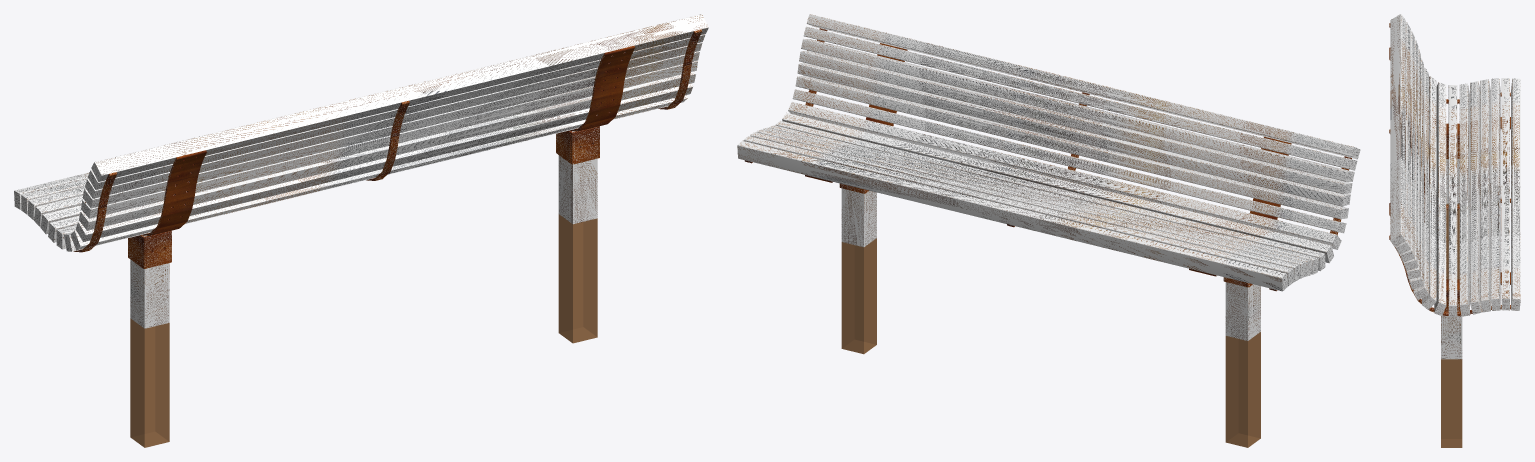
3 renders of one model, left to right at view 1: azimuth 30°, elevation 25°; view 2: azimuth 150°, elevation 25°; view 3: azimuth 270°, elevation 25°, orthographic. The views are drawn at different scales.
Visible parts, largest first — view 1: mesh6_mesh6-geometry, mesh5_mesh5-geometry, mesh9_mesh9-geometry, mesh4_mesh4-geometry, mesh8_mesh8-geometry, mesh10_mesh10-geometry, mesh7_mesh7-geometry, mesh2_mesh2-geometry; view 2: mesh6_mesh6-geometry, mesh5_mesh5-geometry, mesh9_mesh9-geometry; view 3: mesh6_mesh6-geometry, mesh5_mesh5-geometry, mesh9_mesh9-geometry, mesh10_mesh10-geometry.
Part boxes in pixels (x1,y1,x2,y2): mesh6_mesh6-geometry: [14, 14, 708, 251]; mesh5_mesh5-geometry: [558, 131, 597, 343]; mesh9_mesh9-geometry: [130, 235, 169, 447]; mesh4_mesh4-geometry: [568, 46, 634, 131]; mesh8_mesh8-geometry: [140, 150, 206, 235]; mesh10_mesh10-geometry: [73, 29, 702, 252]; mesh7_mesh7-geometry: [128, 230, 171, 268]; mesh2_mesh2-geometry: [556, 126, 599, 164]; mesh6_mesh6-geometry: [737, 14, 1360, 291]; mesh5_mesh5-geometry: [841, 188, 876, 354]; mesh9_mesh9-geometry: [1225, 282, 1260, 447]; mesh6_mesh6-geometry: [1390, 14, 1520, 316]; mesh5_mesh5-geometry: [1441, 315, 1462, 447]; mesh9_mesh9-geometry: [1446, 159, 1459, 279]; mesh10_mesh10-geometry: [1389, 23, 1510, 315].
Bounding box in the file's own units: 0.8691 × 0.4434 × 0.219.
